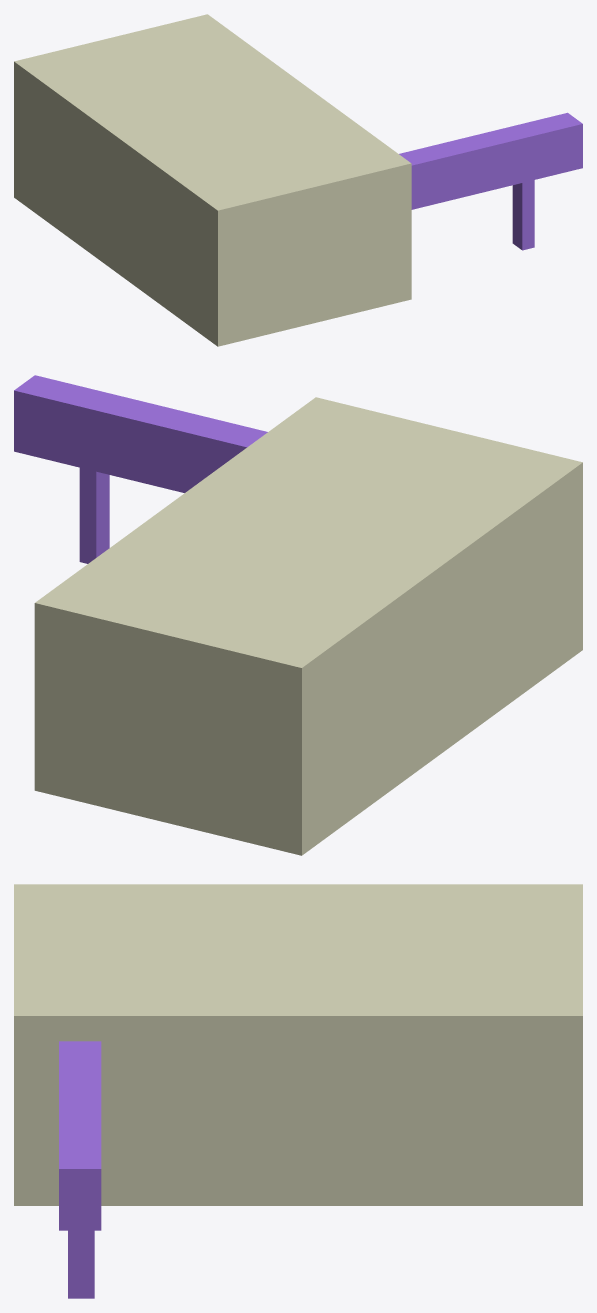
The model's file is terminal.glb.
3 views of the same model, one above another, from view 1: azimuth 30°, elevation 25°; view 2: azimuth 150°, elevation 25°; view 3: azimuth 270°, elevation 25° (orthographic). The views are drawn at different scales.
Parts seen in each view (by area): view 1: Cube, Cube.001, Cube.002; view 2: Cube, Cube.001, Cube.002; view 3: Cube, Cube.001, Cube.002.
Part boxes in pixels (x1,y1,x2,y2): Cube: [14, 14, 411, 346]; Cube.001: [399, 112, 582, 209]; Cube.002: [512, 180, 534, 250]; Cube: [34, 397, 582, 855]; Cube.001: [14, 375, 267, 492]; Cube.002: [79, 467, 109, 563]; Cube: [14, 884, 582, 1205]; Cube.001: [59, 1041, 101, 1230]; Cube.002: [68, 1230, 94, 1298].
Bounding box in the file's own units: 18.73 × 6.39 × 17.35.
